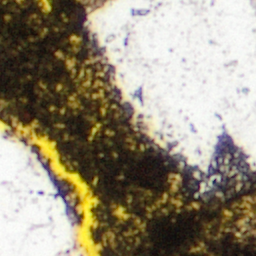cement_matrix: (0, 0, 255, 255), (56, 179, 78, 218), (117, 209, 124, 216)
cracks: (0, 119, 99, 255), (55, 178, 79, 219), (40, 0, 46, 5)
gravel_crushed_stones: (86, 0, 255, 191), (0, 128, 83, 255), (118, 210, 123, 215)
